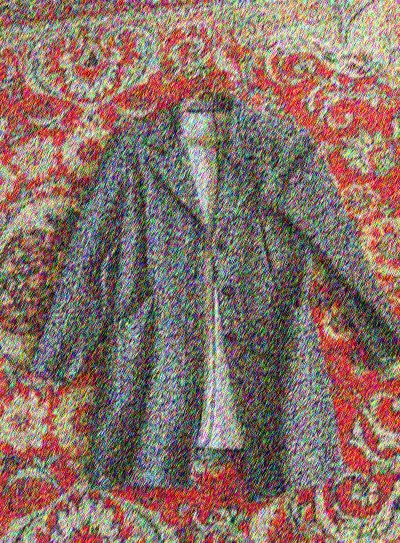Blazer: (39, 83, 397, 519)
